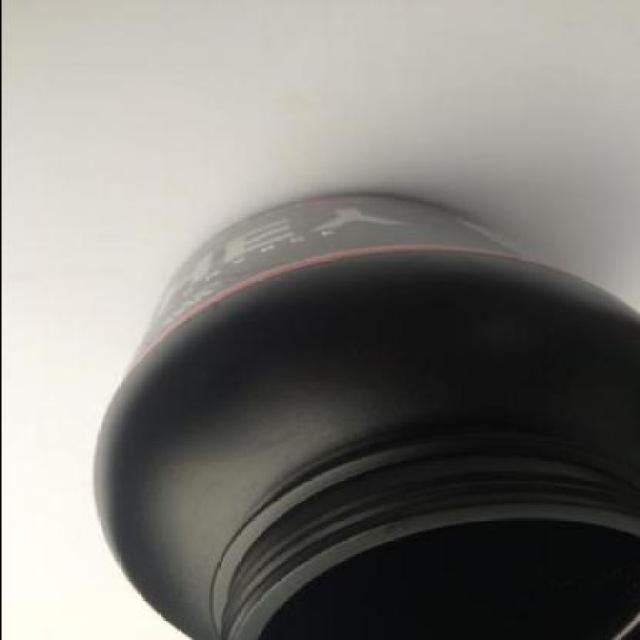PLASTIC: (91, 197, 638, 640)
